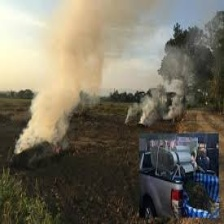smoke: (10, 3, 127, 159), (142, 57, 187, 126)
